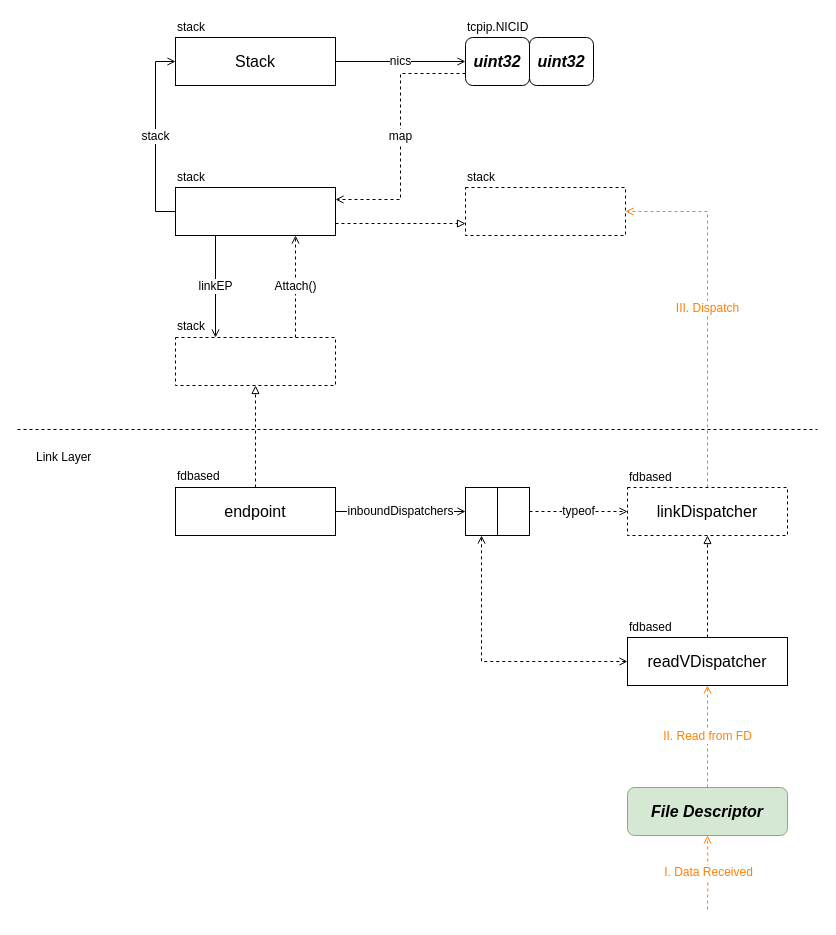
This 836x935 diagram has some shape labels left out. Each missing label, with the box of its shape:
LinkEndpoint: (174, 336, 336, 386)
NetworkDispatcher: (464, 186, 626, 236)
NIC: (174, 186, 336, 236)
